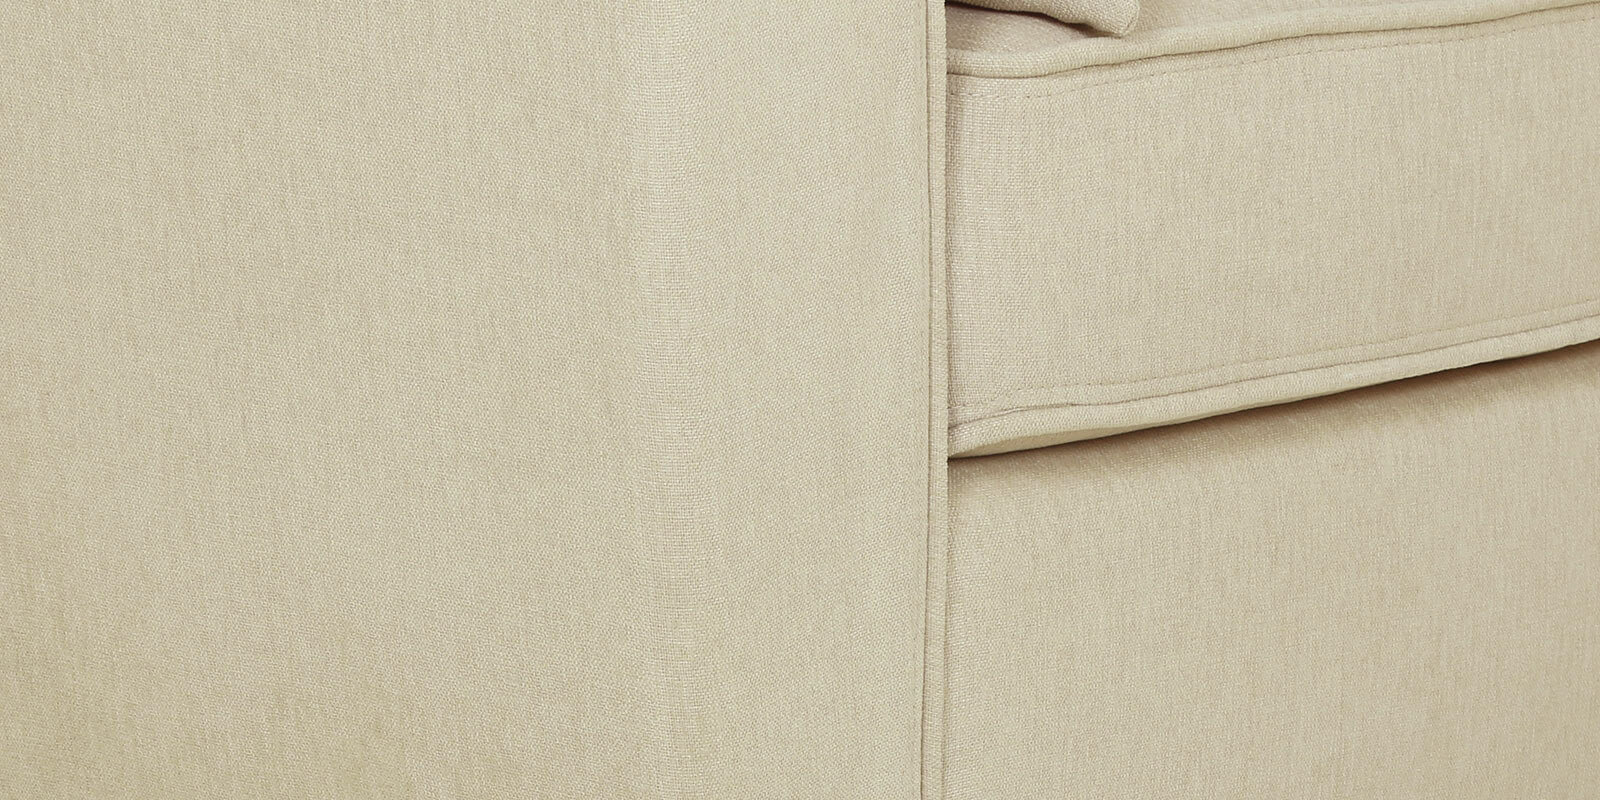Miranda Three Seater Sofa in Beige Colour by CasaCraft: (1, 1, 1593, 800)
